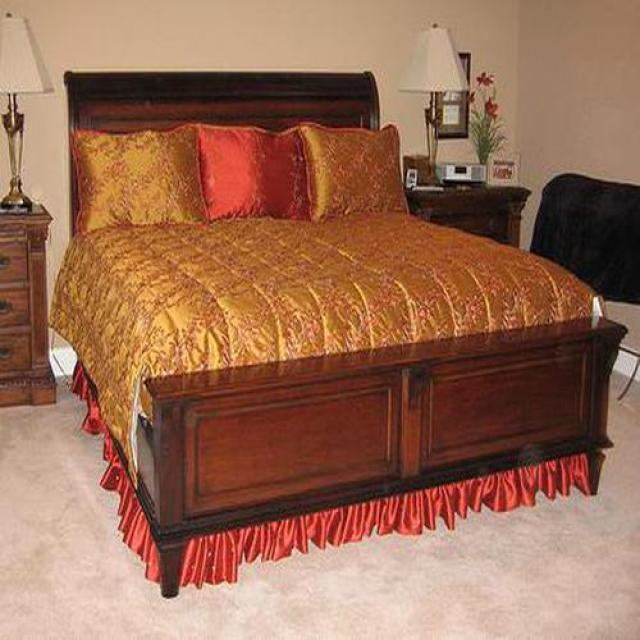bed: (50, 72, 627, 599)
table: (0, 212, 54, 407), (410, 187, 529, 247)
